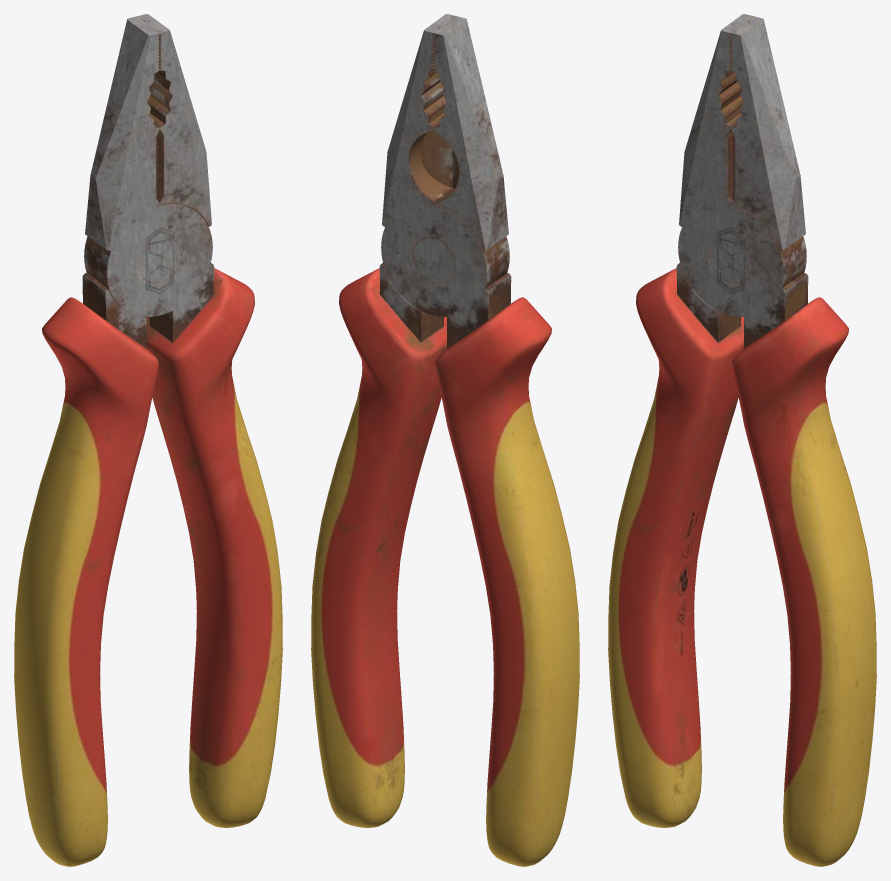
Rendered from pliers.glb.
3 views of the same model, side by side, from view 1: azimuth 30°, elevation 25°; view 2: azimuth 150°, elevation 25°; view 3: azimuth 330°, elevation 25° (orthographic).
Visible parts, largest first — view 1: pliers_b; view 2: pliers_b; view 3: pliers_b.
Part boxes in pixels (box(x1,y1,x2,y2)): pliers_b: box(14, 14, 282, 866); pliers_b: box(311, 14, 579, 866); pliers_b: box(608, 14, 876, 866).
Size of the model in its own units: 0.0553 by 0.1798 by 0.018.
Materials: 1 (1 with a texture image).
